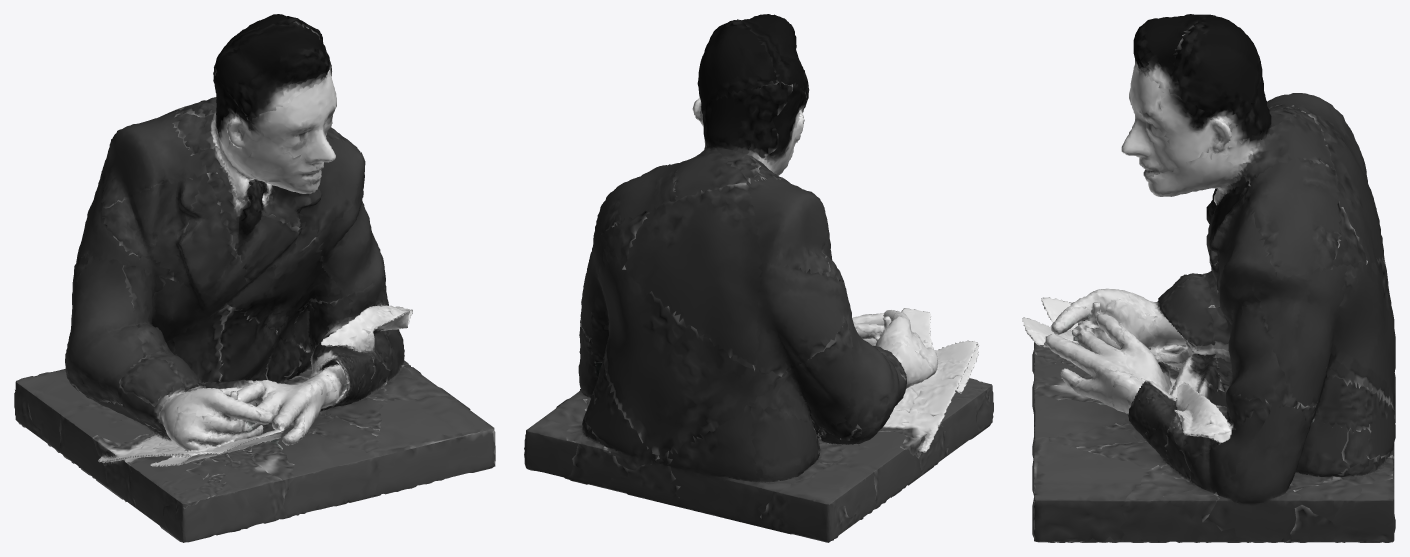
Rendered from ALBERT_CAMUS_3D.glb.
3 views of the same model, side by side, from view 1: azimuth 30°, elevation 25°; view 2: azimuth 150°, elevation 25°; view 3: azimuth 270°, elevation 25° (orthographic). The views are drawn at different scales.
Bounding box in the file's own units: 1.52 × 1.9 × 1.42.
1 material, 1 textured.
